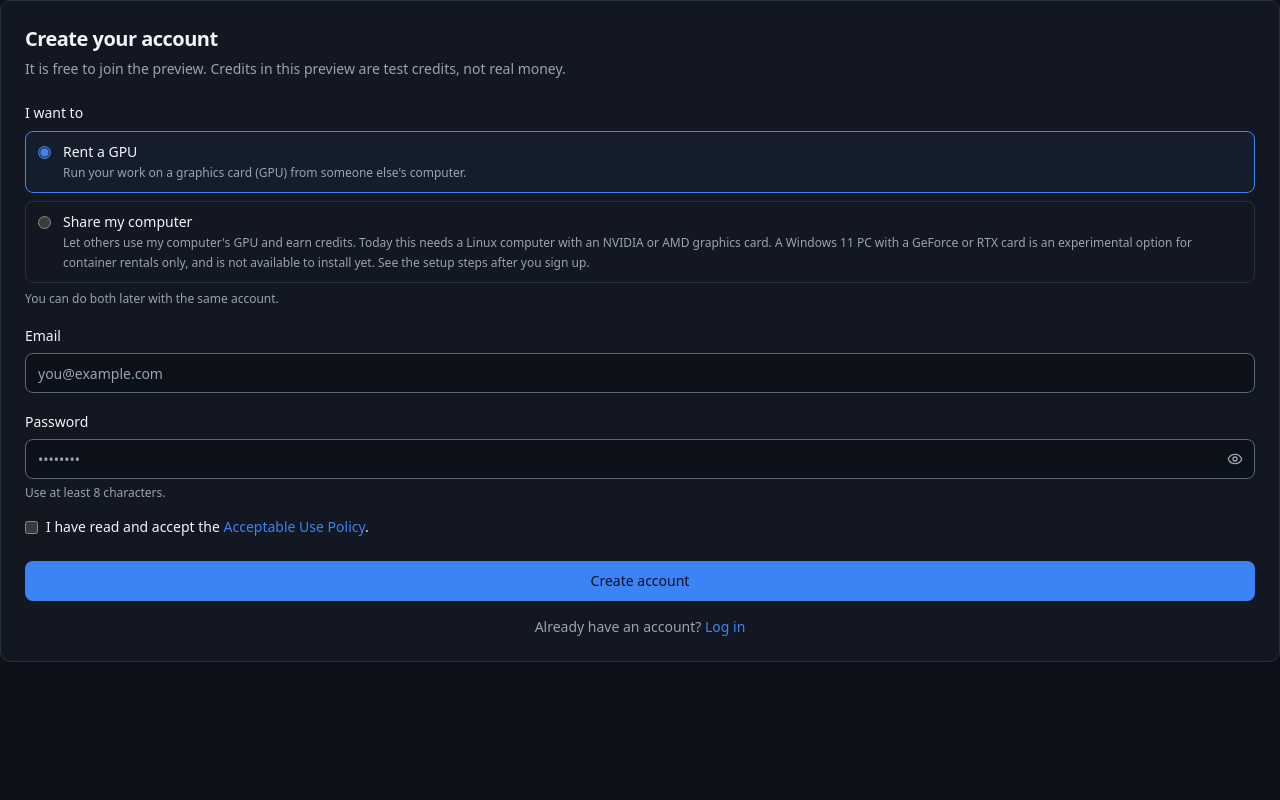
Test: AuthForm AUP (sign-up) › blocks sign-up until the AUP is ticked and shows an error
Type "dev@example.com" into the field labelled "Email" at (640, 373), box [25,353,1255,393]
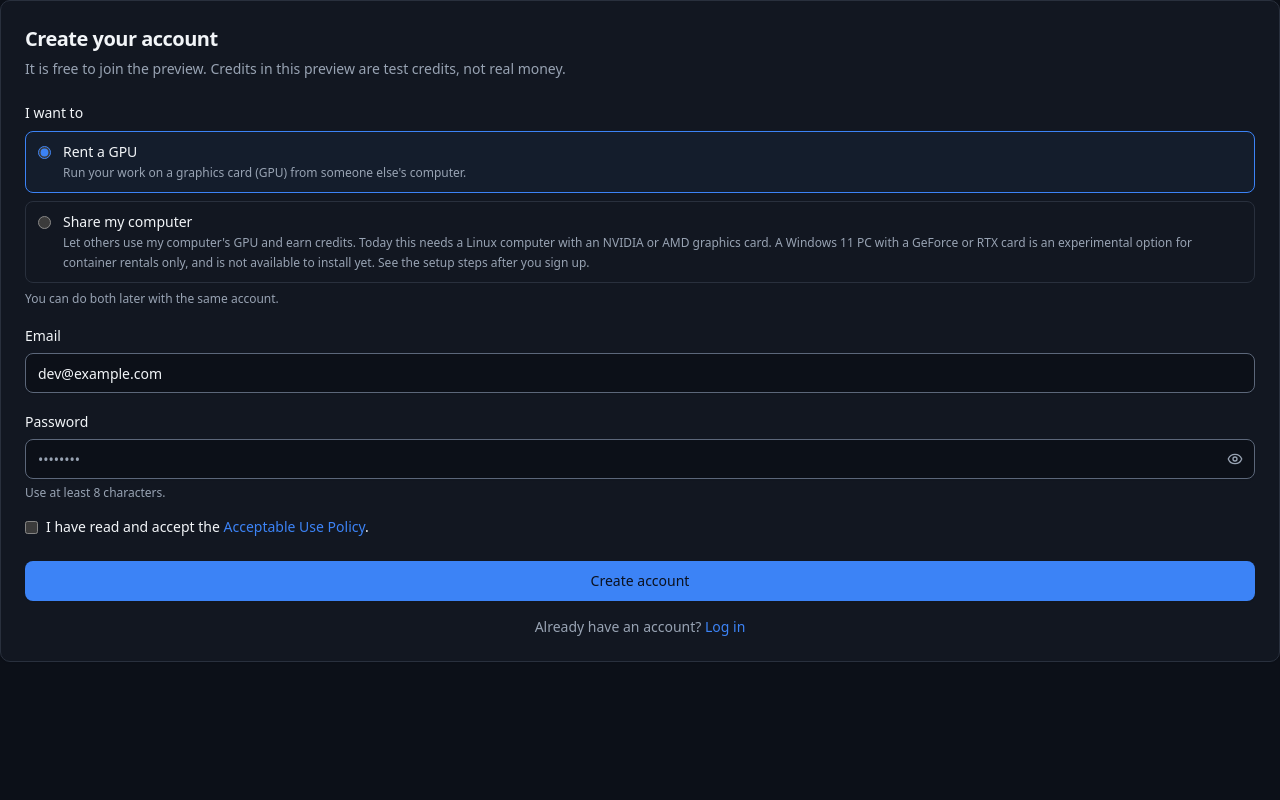
Type "correct-horse" into the password field labelled "Password" at (640, 459), box [25,439,1255,479]
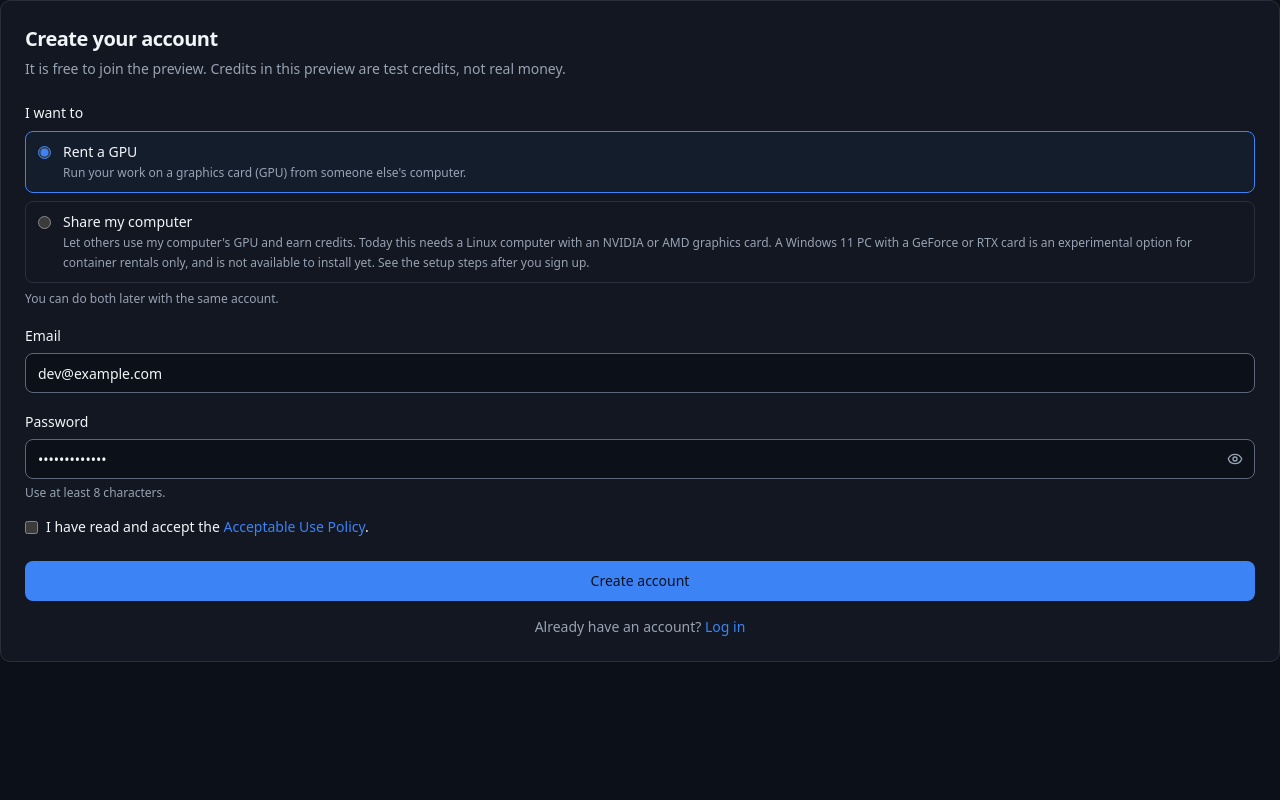
Click the button "Create account" at (640, 581), box [25,561,1255,601]
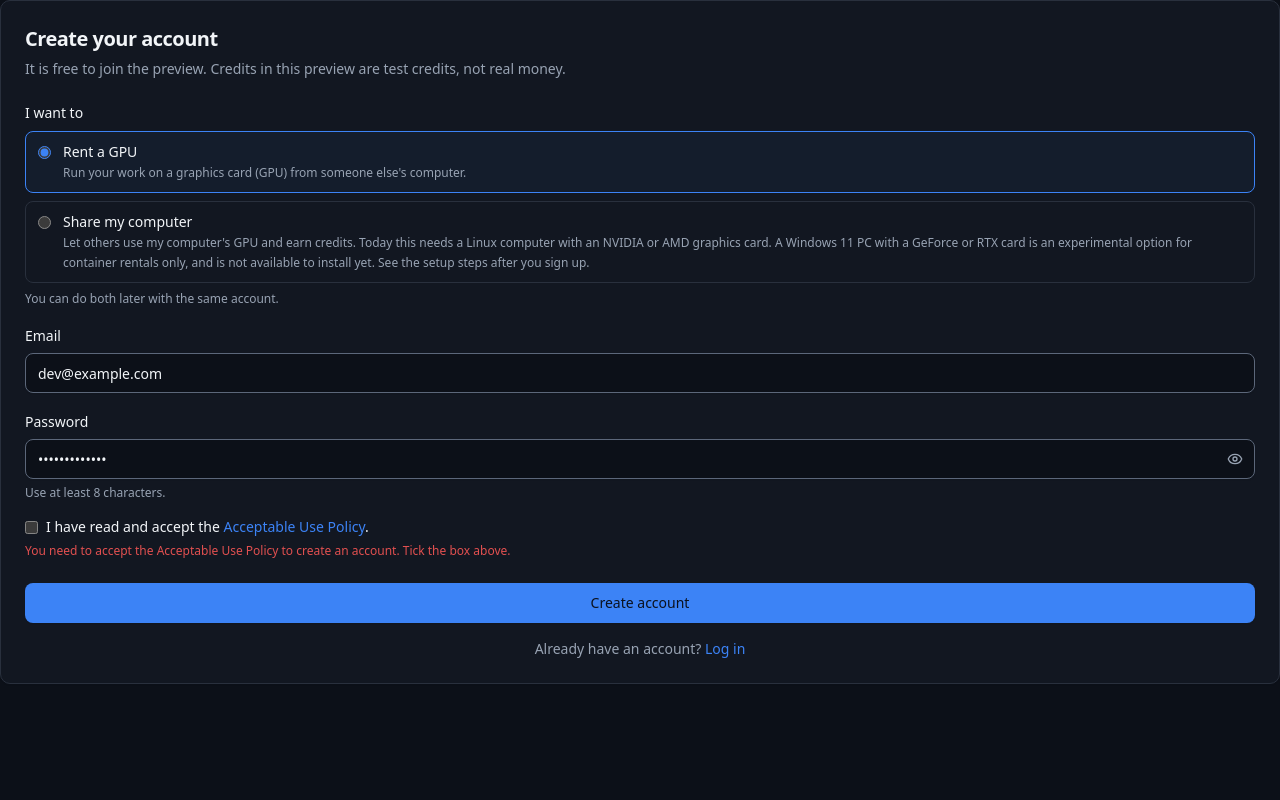
Expected: the text "need to accept the Acceptable Use Policy" is shown, [25,542,510,559]
